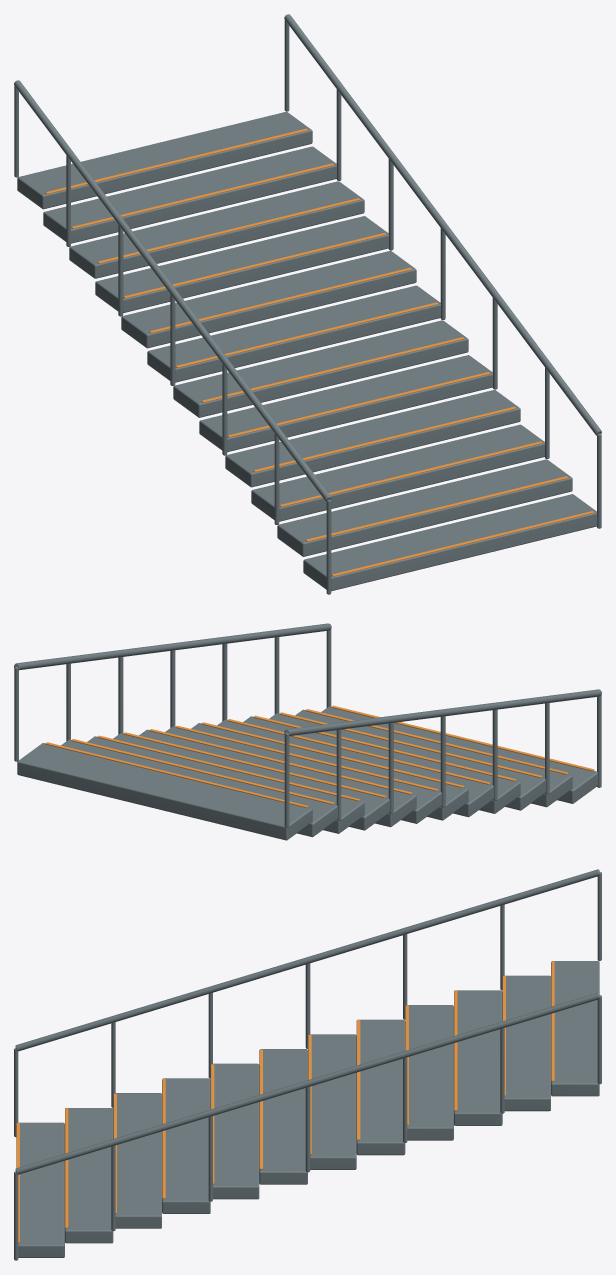
The model's file is ascent_stair.fbx.
3 renders of one model, top to bottom at view 1: azimuth 30°, elevation 25°; view 2: azimuth 150°, elevation 25°; view 3: azimuth 270°, elevation 25°, orthographic. The views are drawn at different scales.
Visible parts, largest first — view 1: ascent_stair; view 2: ascent_stair; view 3: ascent_stair.
Boxes of the visible parts, left/top/right/bottom form: ascent_stair: left=14, top=14, right=601, bottom=594; ascent_stair: left=14, top=623, right=601, bottom=840; ascent_stair: left=14, top=869, right=601, bottom=1260.
Size of the model in its own units: 307 by 303 by 605.
